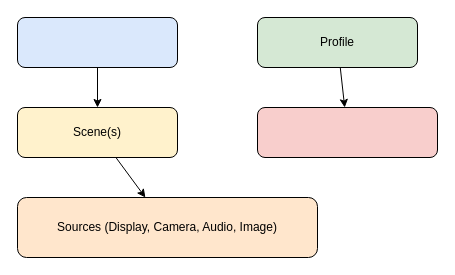
Some shapes in this 455 by 275 pixel diagram are drawn without their labels. The box of each missing label's shape, as (x1, y1, x2, y2) in pixels:
Hotkeys (viazané na Profile): (256, 106, 438, 158)
Scene Collection: (16, 16, 178, 68)
